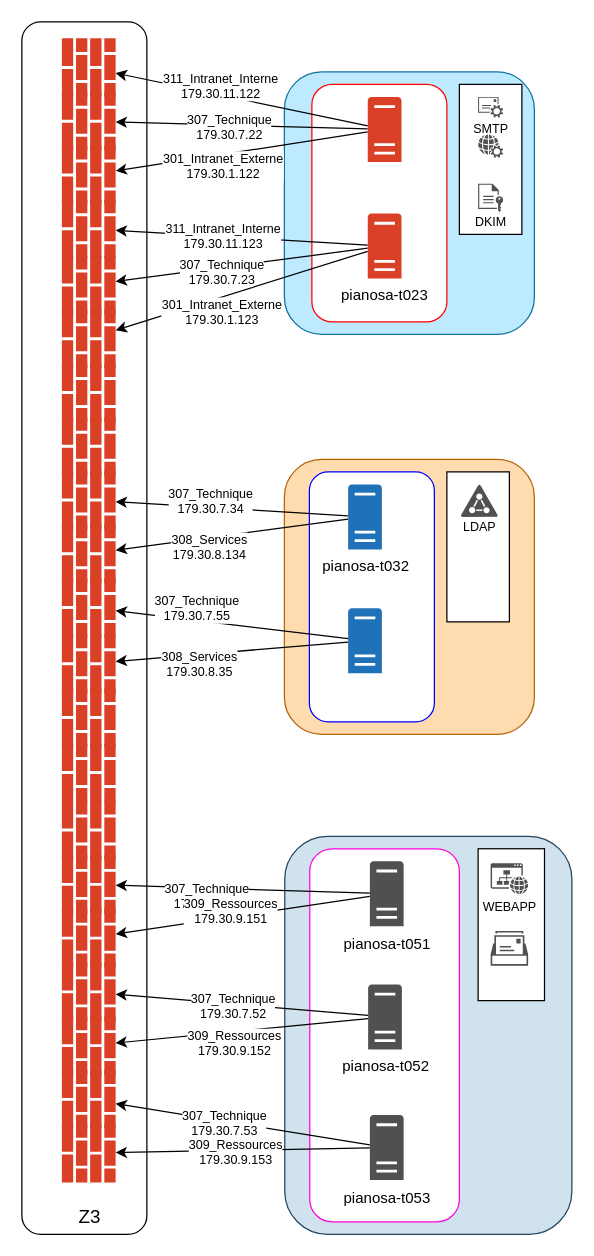
This 594x1256 diagram has some shape labels left out. The shapes that lost their labels are listed below. From the top down, each one's centre as x and y in pixels, then its label:
At point 384,128: "pianosa-t022".
At point 490,145: "PROXY".
At point 364,640: "pianosa-t035".
At point 509,947: "MBX".
